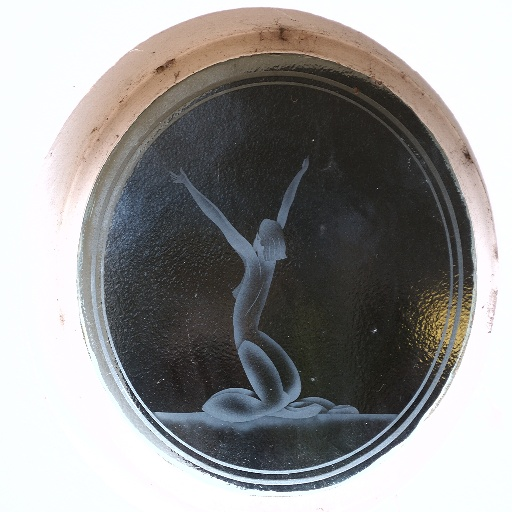hand: (168, 166, 188, 183), (301, 155, 309, 172)
